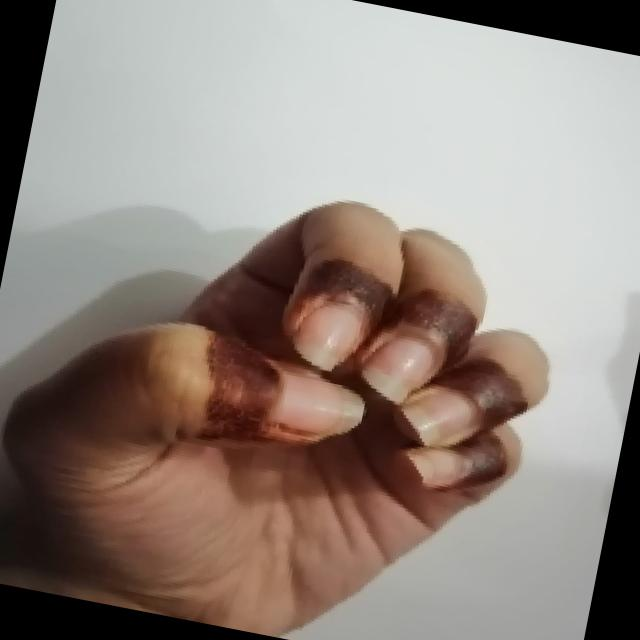Nail: (268, 369, 365, 434), (362, 337, 434, 404), (294, 304, 363, 371), (402, 393, 477, 446), (408, 449, 463, 486)
